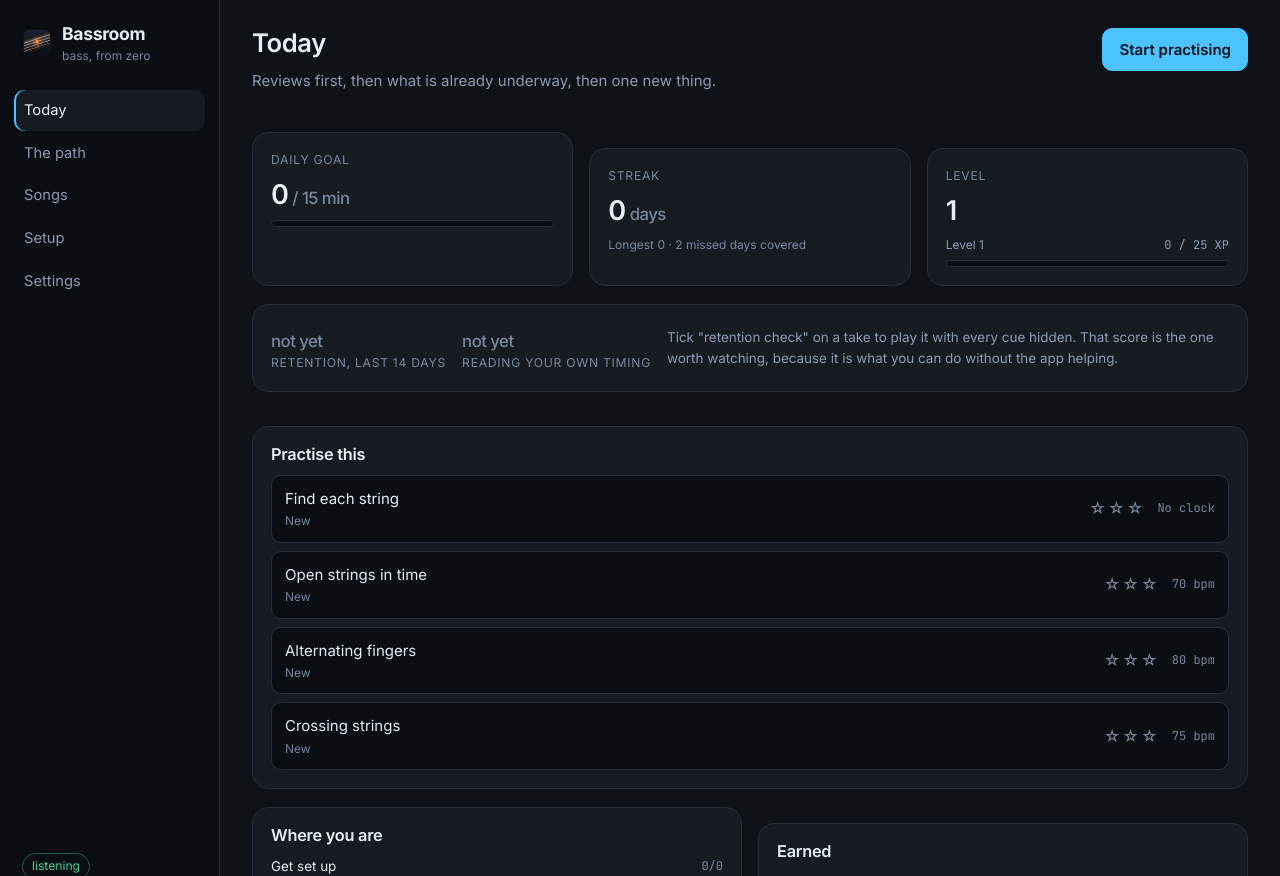
Test case: the practice screen with the input running › shows the result once the estimate is given
The width and height of the screenshot is (1280, 876).
Click the button "The path".
click(110, 153)  # box [14,133,205,174]
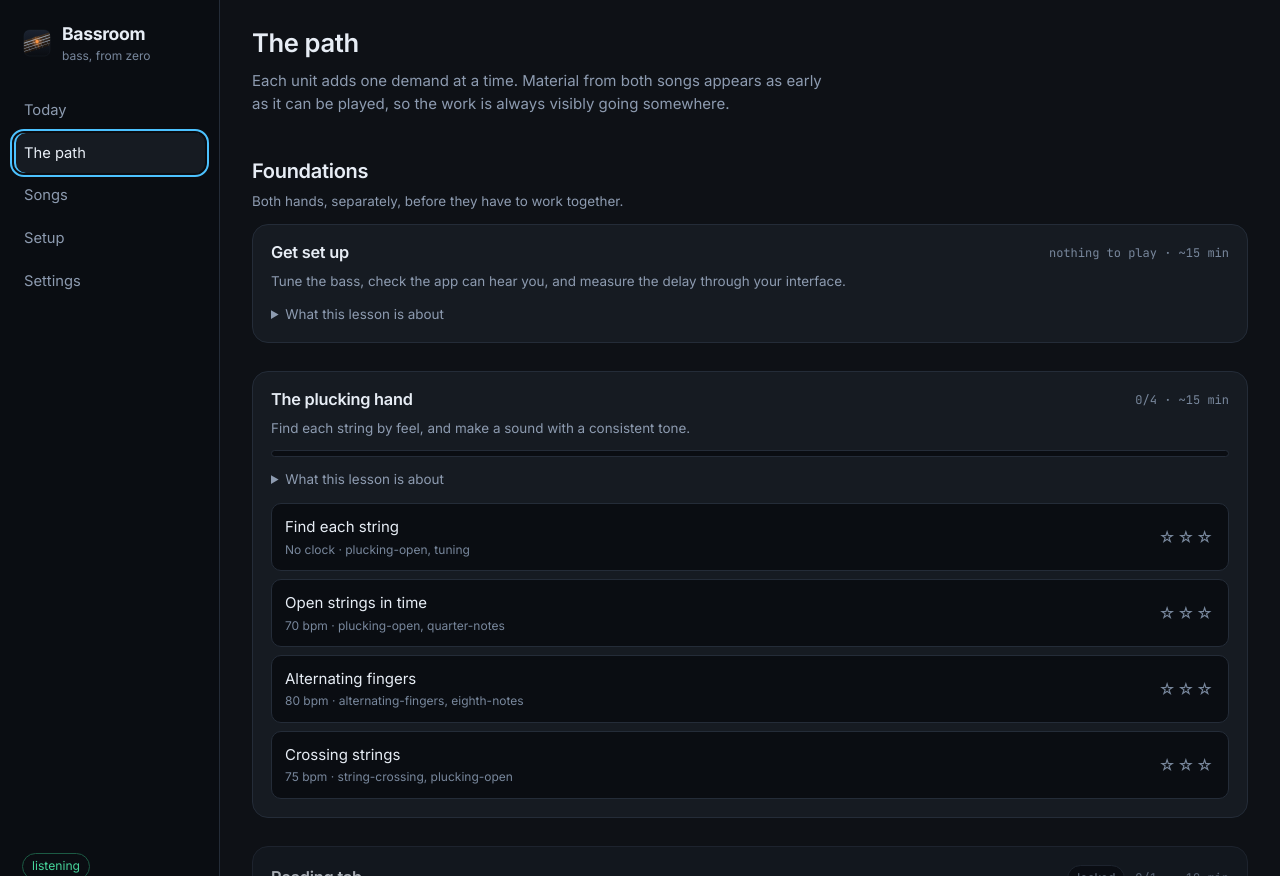
Click the button "Open strings in time".
click(356, 603)  # box [271,579,1229,647]
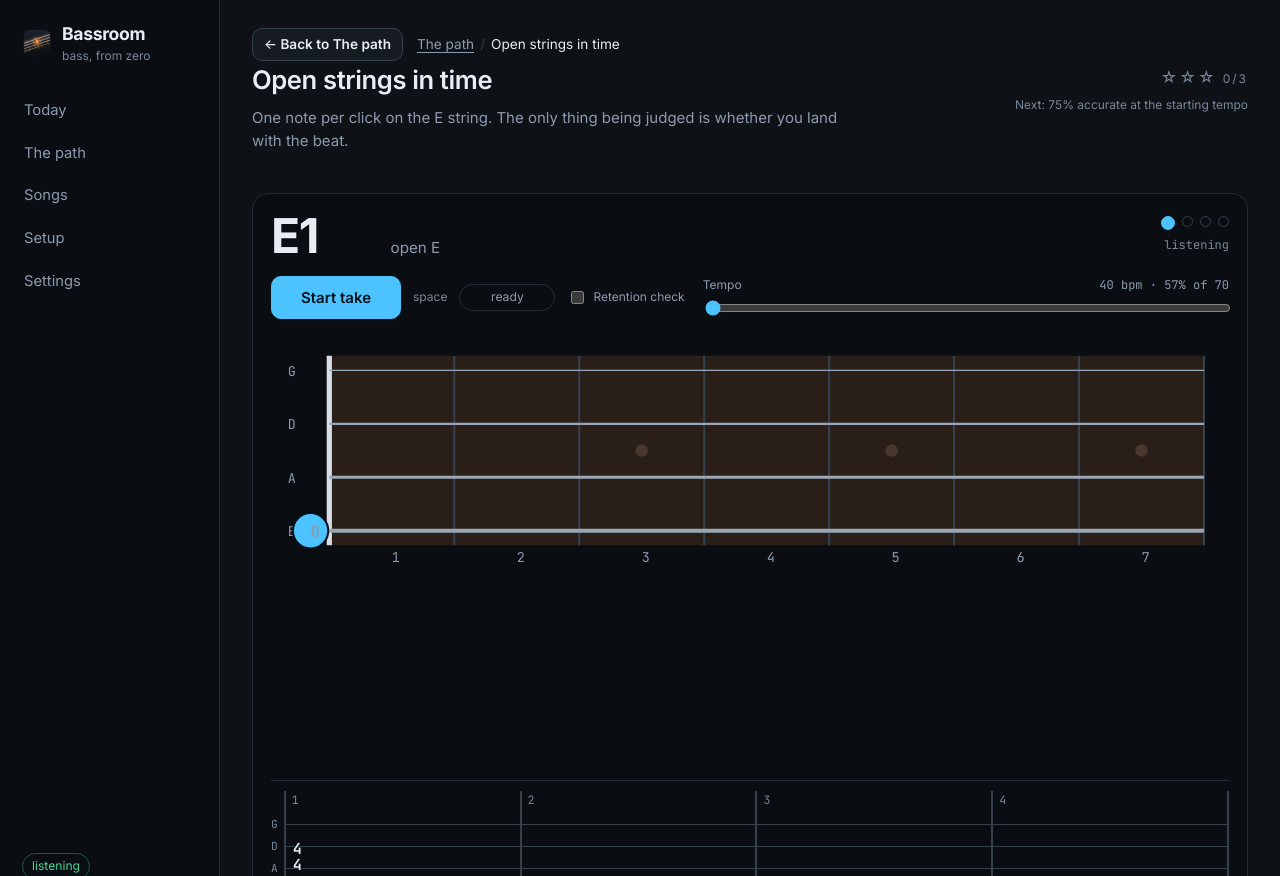
Click the button "Start take".
click(336, 297)  # box [271,276,401,319]
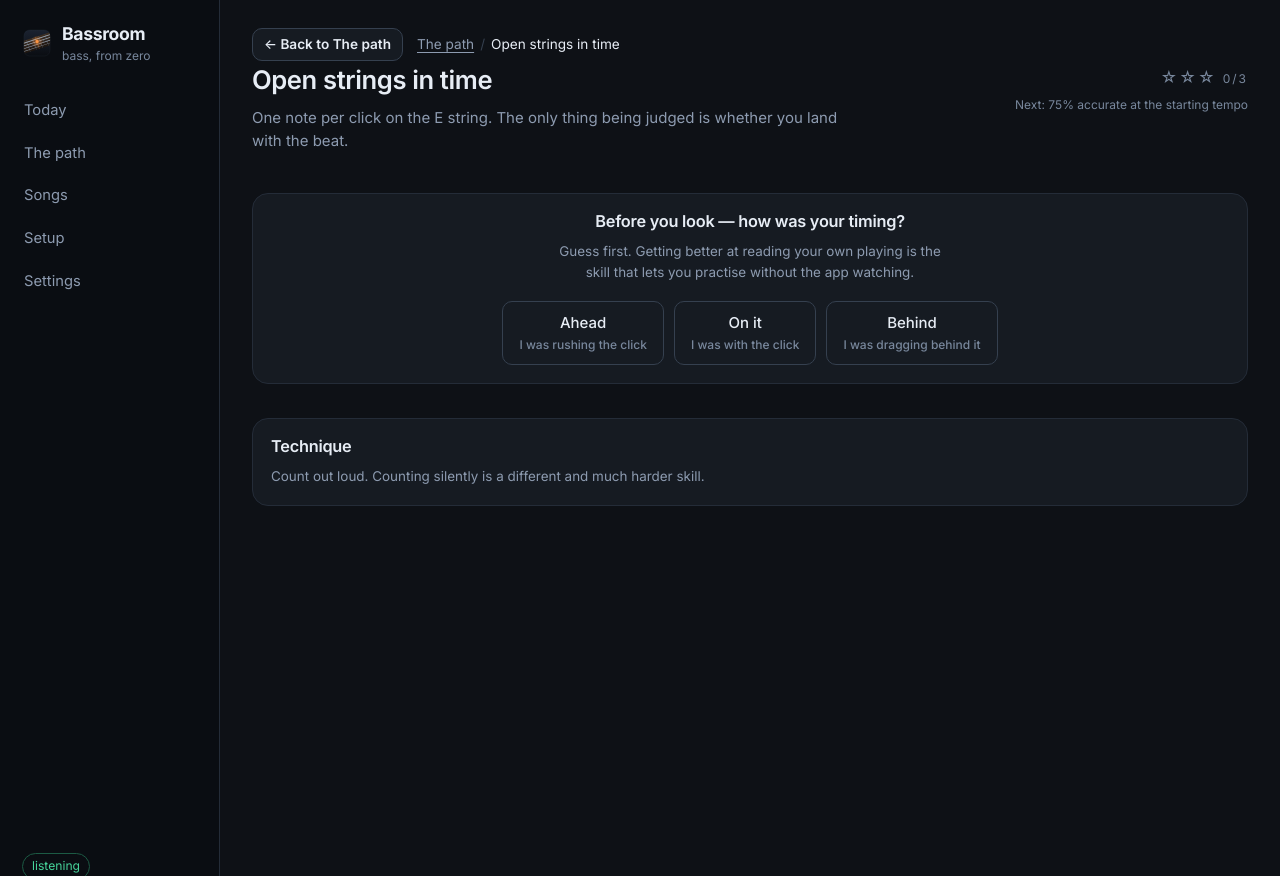
Now the heading "Before you look — how was your timing?" is shown, box [595,210,905,230]
Click the button "On it I was with the click".
click(745, 333)  # box [674,301,816,364]
(page scrolled)
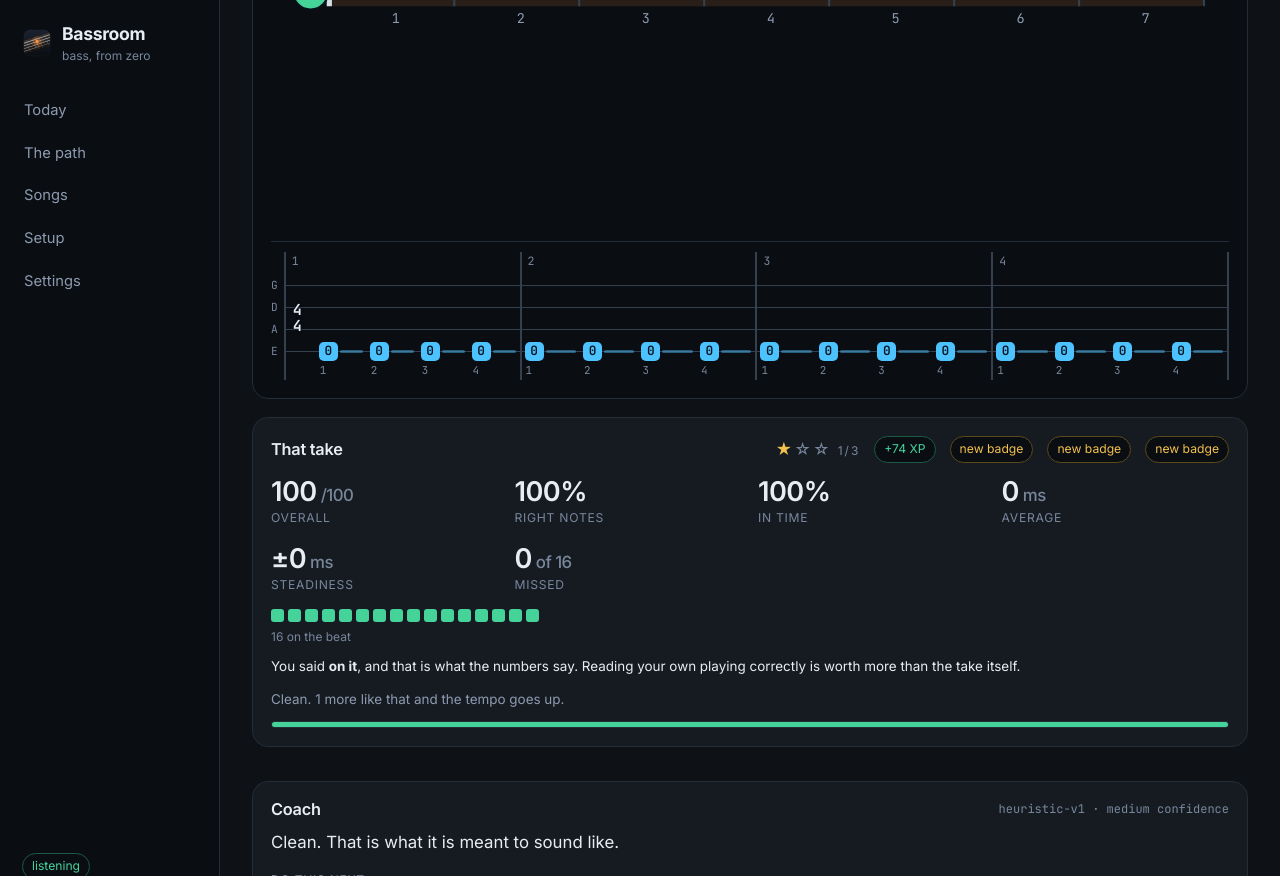
Now the heading "That take" is shown, box [271,440,343,460]
